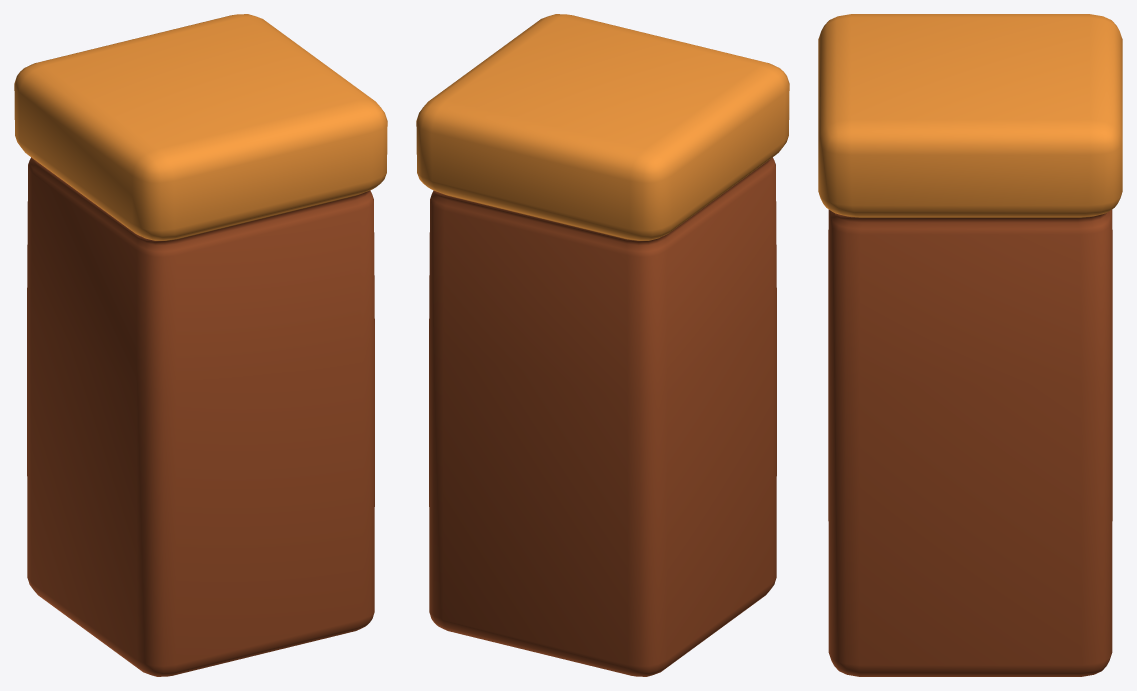
Rendered from platform_l.glb.
3 views of the same model, side by side, from view 1: azimuth 30°, elevation 25°; view 2: azimuth 150°, elevation 25°; view 3: azimuth 270°, elevation 25° (orthographic). The views are drawn at different scales.
Visible parts, largest first — view 1: platform_l; view 2: platform_l; view 3: platform_l.
Boxes of the visible parts, x1,y1,x2,y2 form: platform_l: [14, 14, 387, 676]; platform_l: [416, 14, 789, 676]; platform_l: [818, 14, 1122, 676].
Bounding box in the file's own units: 1.97 × 3.97 × 1.97.
1 material, 1 textured.
